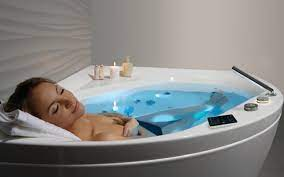bathub: (1, 63, 284, 177)
